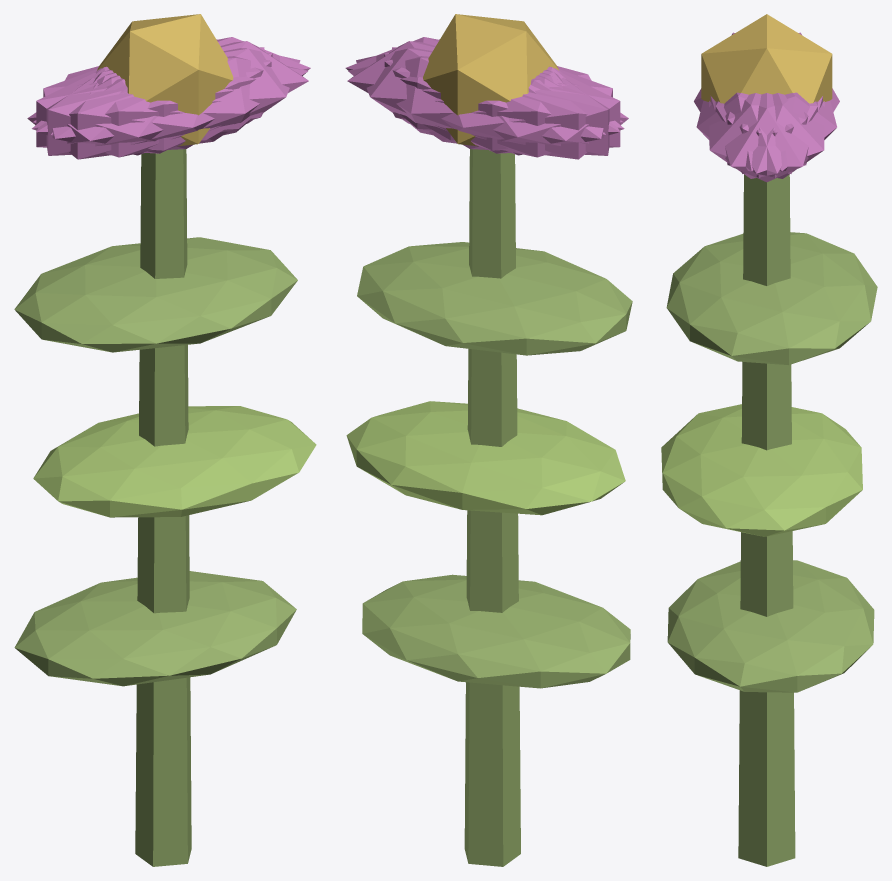
File: aglaonema-commutatum.glb
The picture shows the model from 3 angles, left to right: view 1: azimuth 30°, elevation 25°; view 2: azimuth 150°, elevation 25°; view 3: azimuth 270°, elevation 25°; orthographic projection.
Parts seen in each view (by area): view 1: stem, leaf2, leaf1, leaf0, center, petal1, petal6, petal2, petal5, petal7, petal0, petal4 (+2 smaller); view 2: stem, leaf2, leaf0, leaf1, center, petal8, petal3, petal7, petal4, petal2, petal0, petal5 (+2 smaller); view 3: stem, leaf2, leaf1, leaf0, center, petal0, petal4, petal5, petal1, petal8.
Boxes of the visible parts, x1,y1,x2,y2 form: stem: (135,149,191,866); leaf2: (14,237,297,352); leaf1: (33,406,316,517); leaf0: (14,571,296,686); center: (97,14,233,146); petal1: (32,56,307,157); petal6: (27,68,227,159); petal2: (46,47,264,155); petal5: (50,48,300,150); petal7: (36,53,272,153); petal0: (97,41,308,140); petal4: (33,37,310,132); stem: (464,149,520,866); leaf2: (357,242,632,355); leaf0: (362,574,630,688); leaf1: (346,401,625,515); center: (423,14,558,146); petal8: (348,56,624,157); petal3: (429,68,628,159); petal7: (392,47,609,155); petal4: (356,48,605,150); petal2: (384,53,620,153); petal0: (347,41,559,140); petal5: (345,37,623,132); stem: (738,174,795,866); leaf2: (666,232,877,364); leaf1: (661,404,862,536); leaf0: (667,560,874,692); center: (701,14,832,103); petal0: (710,93,822,182); petal4: (715,93,824,178); petal5: (709,93,817,178); petal1: (696,92,808,171); petal8: (725,92,836,171).
Bounding box in the file's own units: 0.146 × 0.4245 × 0.1011.
